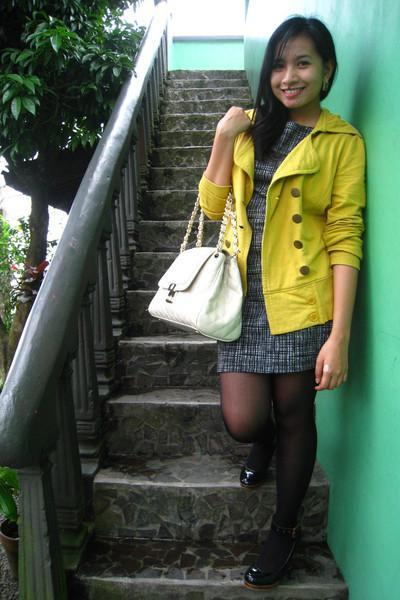bag: (132, 228, 242, 349)
dress: (204, 120, 332, 376)
jacket: (188, 100, 369, 333)
shoe: (237, 451, 294, 585)
